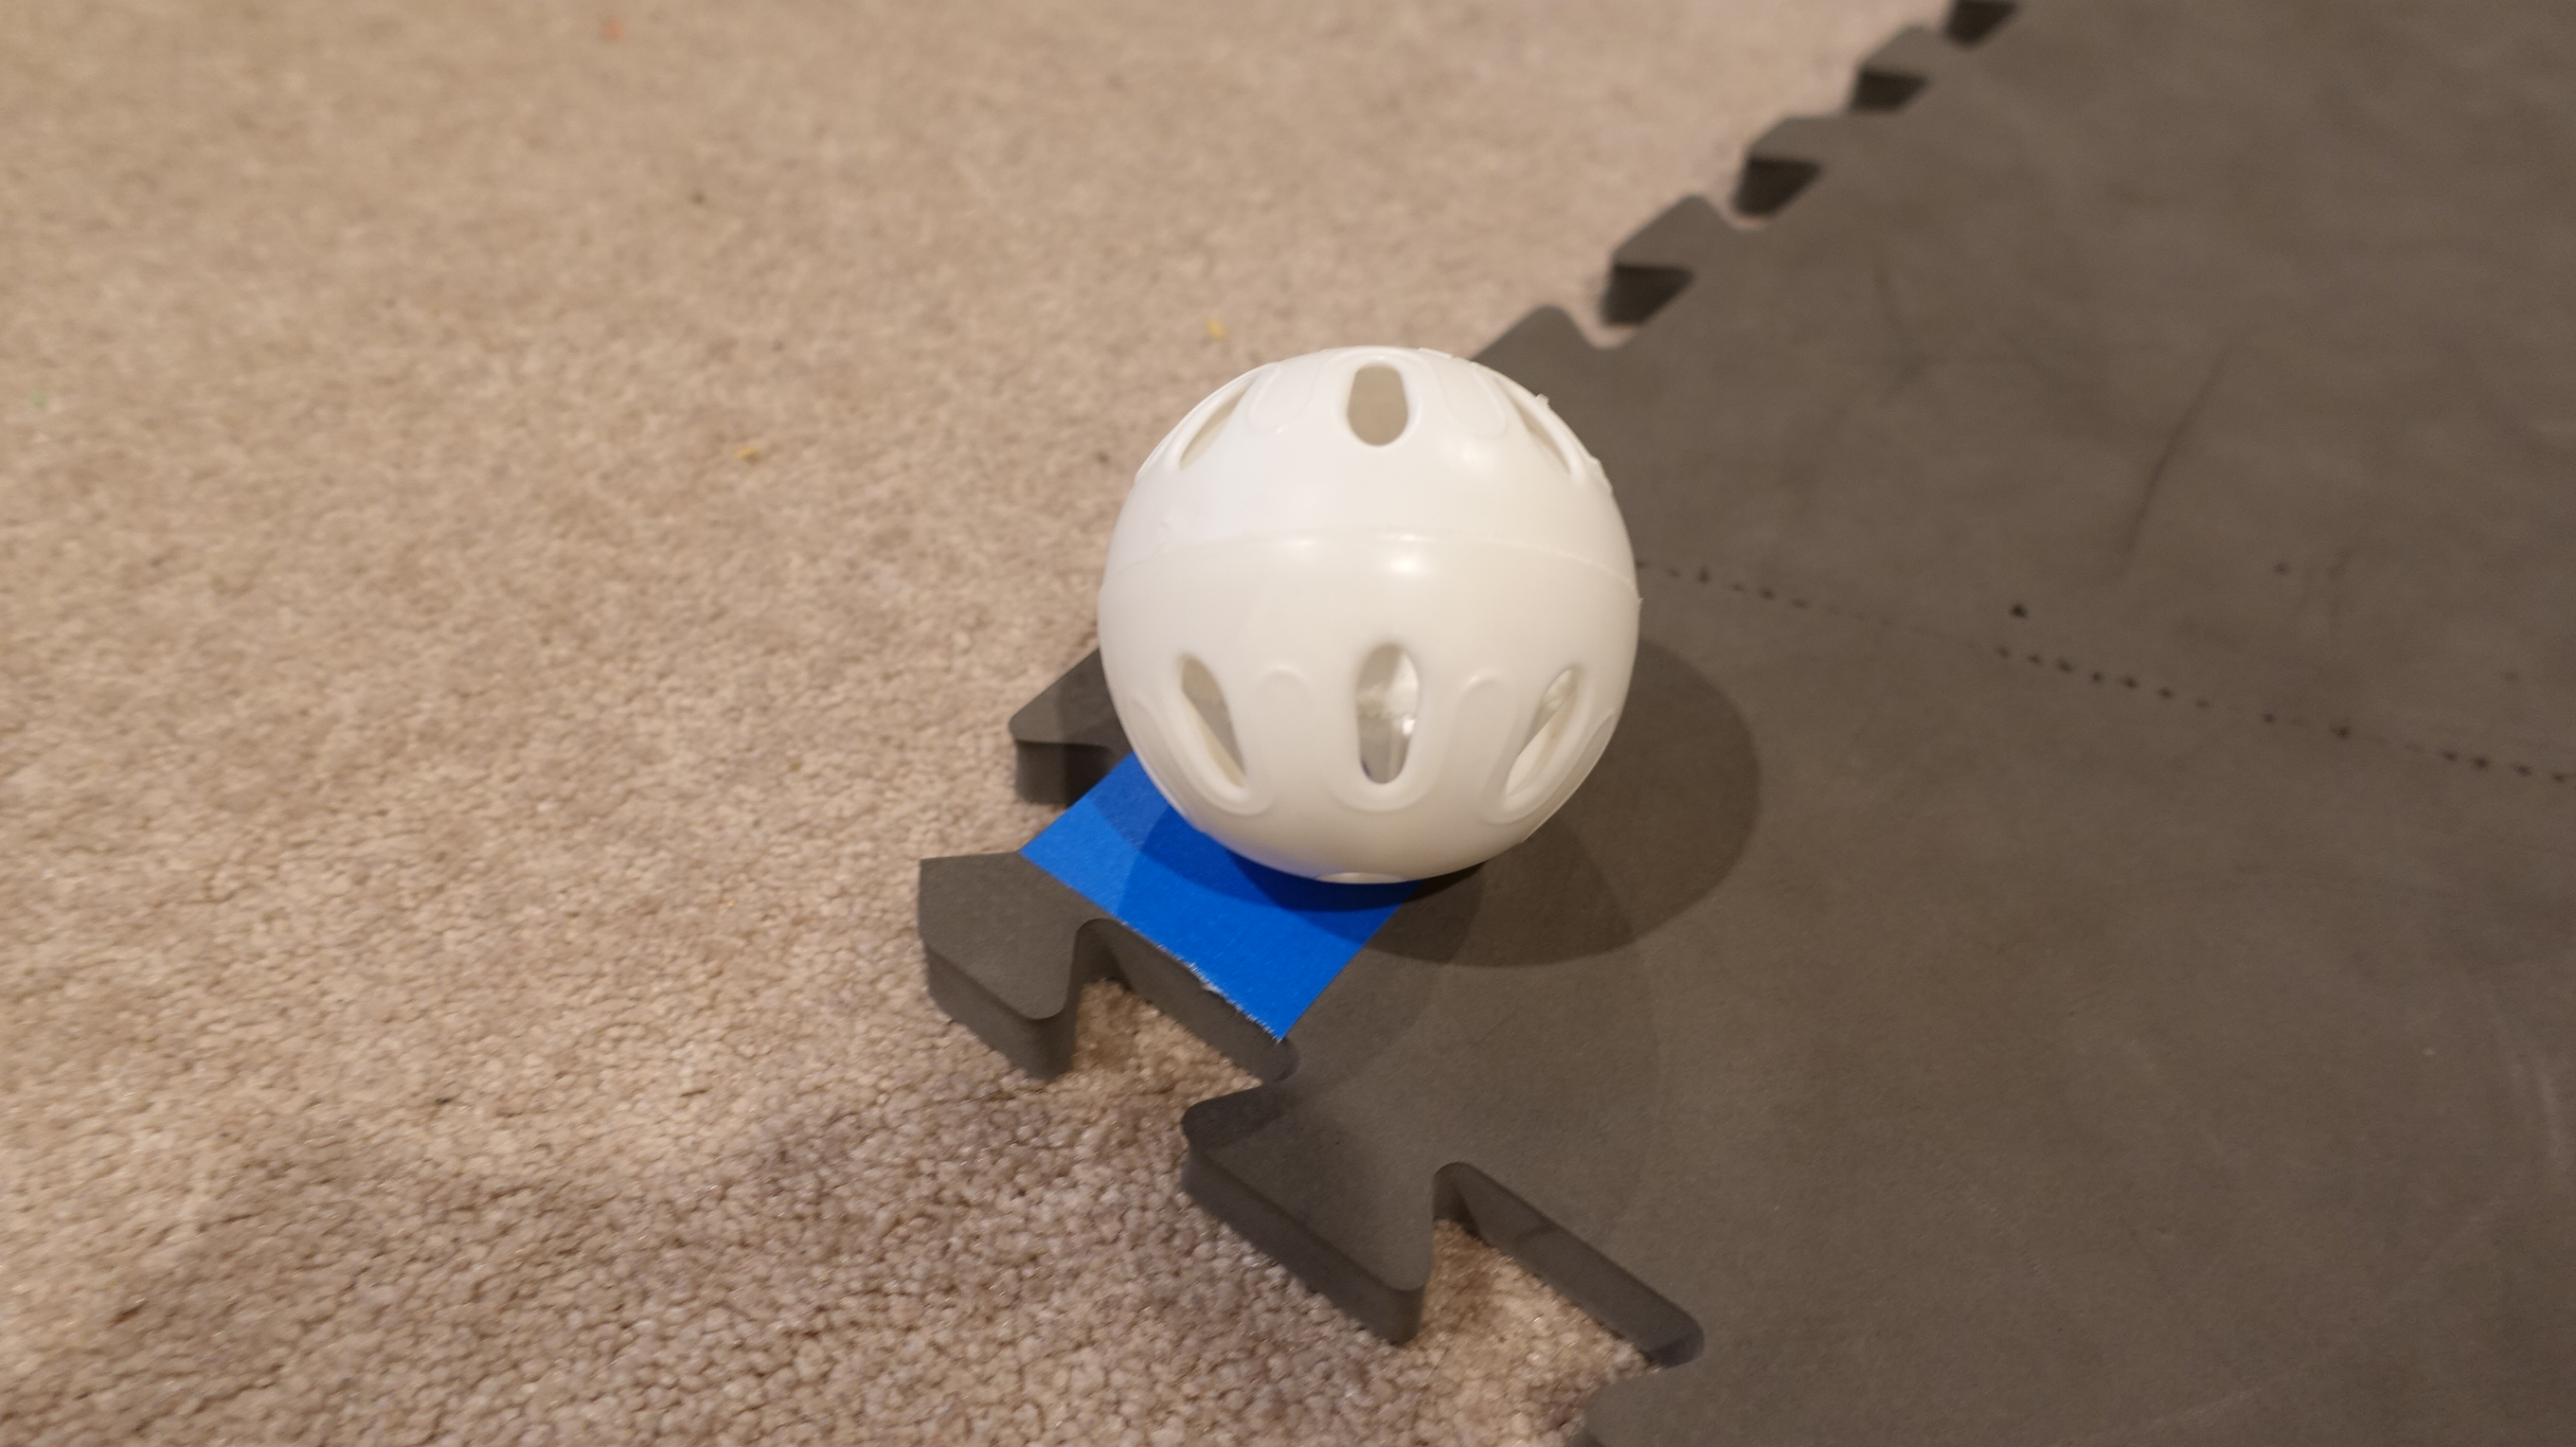silver: (1090, 347, 1644, 888)
